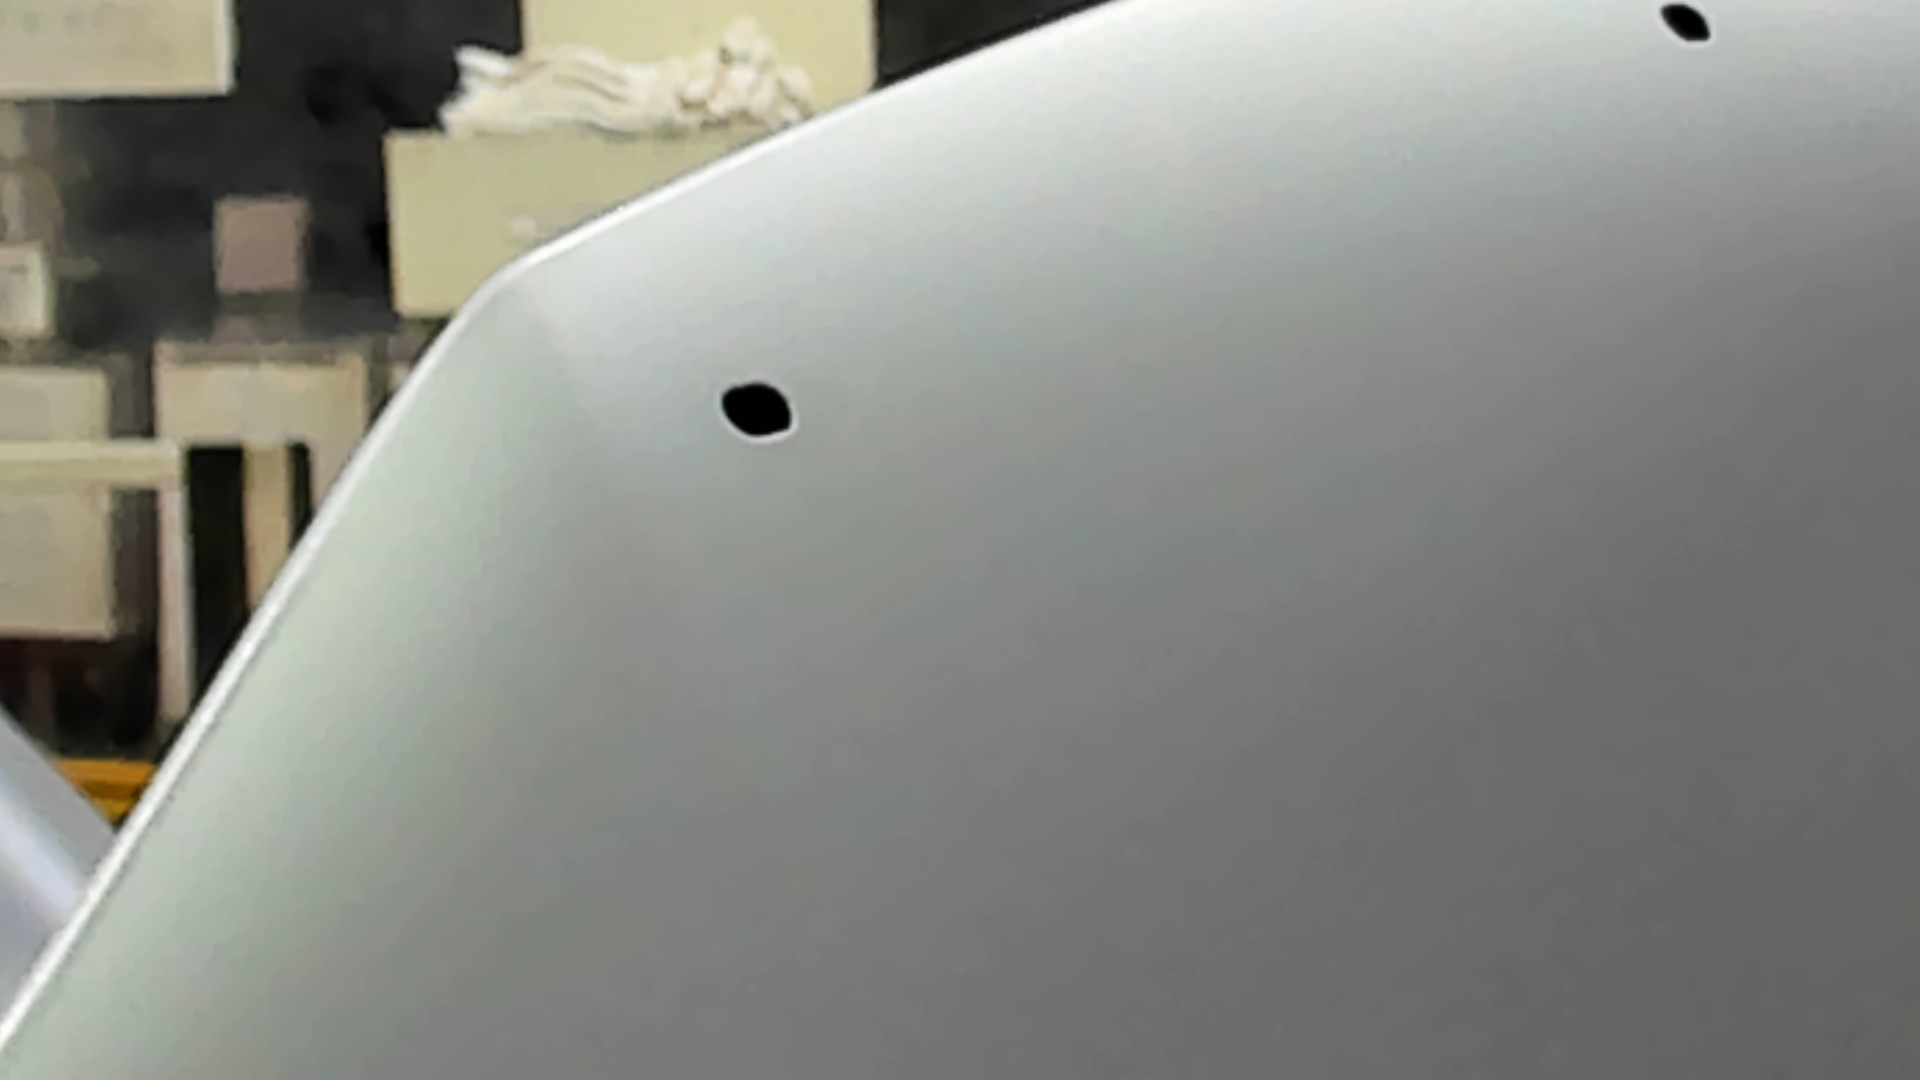amorfo: (717, 378, 798, 442), (1655, 1, 1714, 46)
